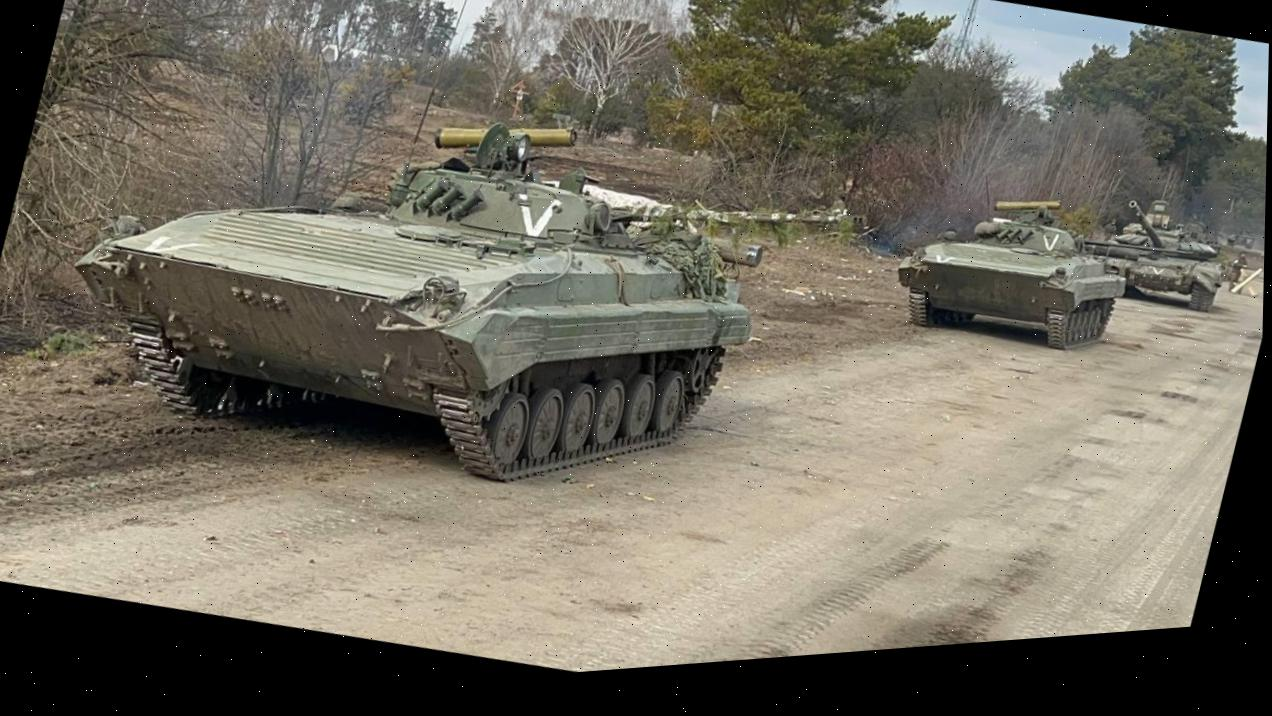person: (1227, 248, 1253, 296)
tank: (83, 5, 796, 592), (878, 172, 1144, 400), (1082, 171, 1246, 344), (1226, 226, 1261, 255)
